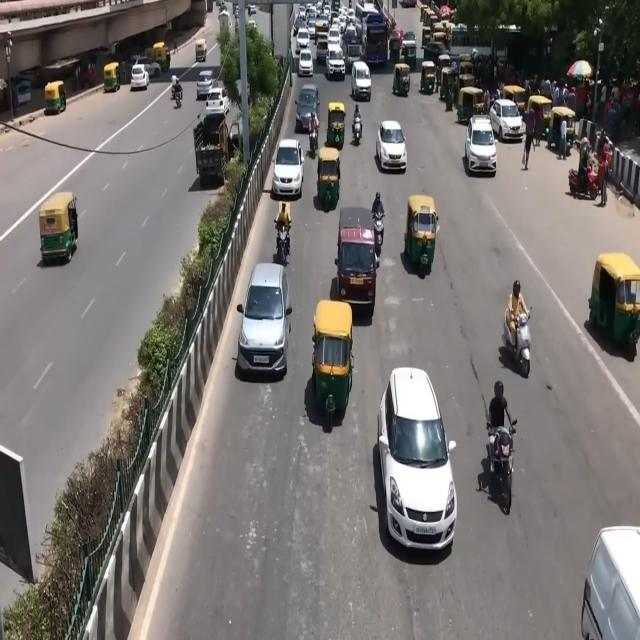auto: (588, 252, 640, 352), (311, 297, 355, 414), (335, 206, 379, 316), (39, 191, 79, 265), (404, 194, 438, 276), (316, 147, 342, 210), (548, 104, 578, 151), (527, 94, 554, 143), (458, 85, 484, 126), (326, 101, 347, 150), (44, 80, 68, 115), (502, 84, 526, 113), (392, 62, 411, 98), (440, 66, 458, 104), (401, 30, 418, 68), (420, 60, 437, 95), (152, 41, 170, 73), (103, 62, 121, 93), (458, 58, 475, 88), (432, 20, 450, 47), (437, 53, 452, 82), (195, 39, 207, 62)
bike-auto: (485, 419, 517, 512), (503, 301, 533, 377), (565, 137, 600, 201), (274, 199, 292, 261), (372, 190, 386, 256), (308, 120, 319, 157), (352, 105, 362, 143), (174, 77, 182, 103)
